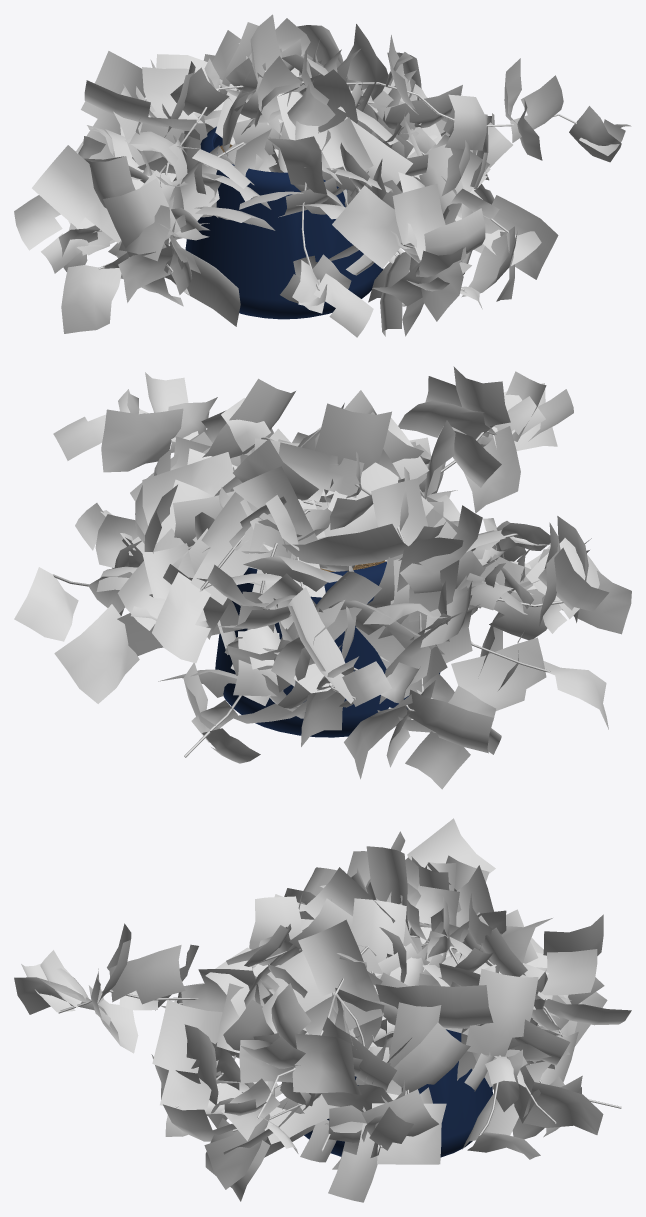
The model's file is house_ivy_fbx.fbx.
The picture shows the model from 3 angles, top to bottom: view 1: azimuth 30°, elevation 25°; view 2: azimuth 150°, elevation 25°; view 3: azimuth 270°, elevation 25°; orthographic projection. The views are drawn at different scales.
Visible parts, largest first — view 1: house_ivy_plant, house_ivy_pot; view 2: house_ivy_plant, house_ivy_pot; view 3: house_ivy_plant, house_ivy_pot.
Boxes of the visible parts, x1,y1,x2,y2 form: house_ivy_plant: (14, 14, 631, 337); house_ivy_pot: (185, 126, 383, 319); house_ivy_plant: (14, 366, 631, 789); house_ivy_pot: (215, 560, 440, 737); house_ivy_plant: (14, 818, 631, 1202); house_ivy_pot: (304, 1029, 492, 1157).
Size of the model in its own units: 110 by 52.12 by 106.
